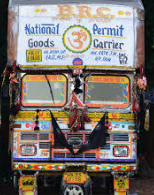truck: (7, 1, 145, 193)
